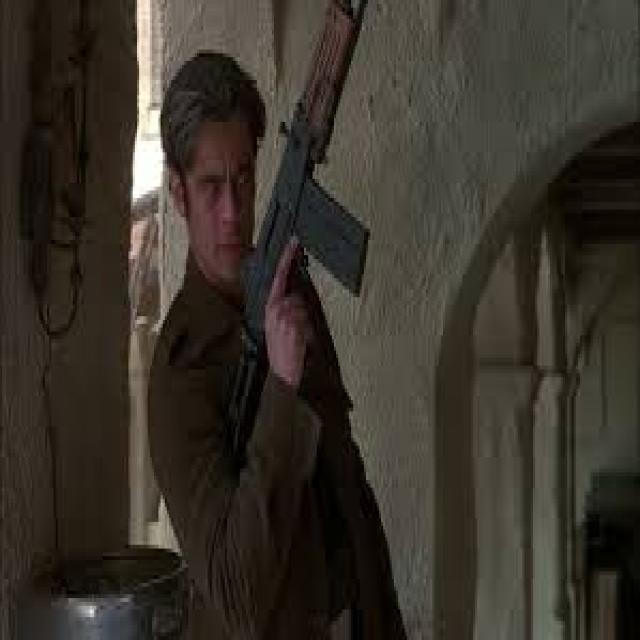weapon: (226, 0, 372, 451)
